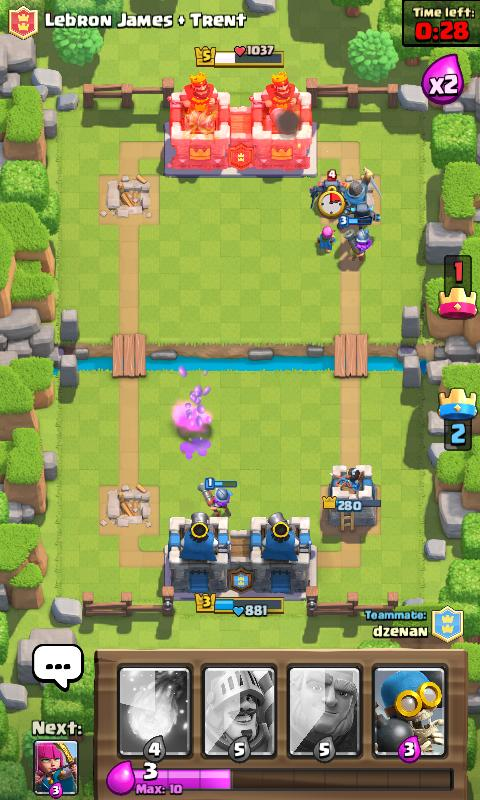ally_archer: (314, 224, 337, 253)
ally_knight: (343, 166, 380, 205)
ally_mini_pekka: (349, 203, 382, 229)
ally_musketeer: (337, 214, 373, 262), (196, 476, 237, 517)
enemy_mini_pekka: (308, 168, 346, 208)
